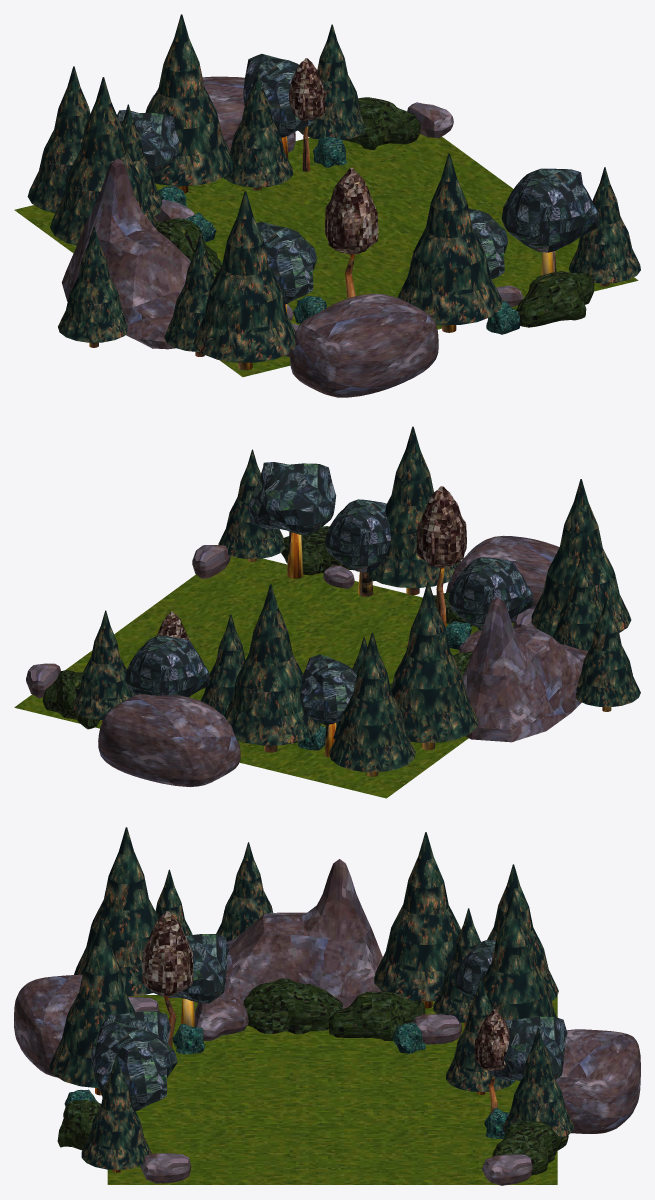
File: environ-01.glb
3 views of the same model, one above another, from view 1: azimuth 30°, elevation 25°; view 2: azimuth 150°, elevation 25°; view 3: azimuth 270°, elevation 25° (orthographic). The views are drawn at different scales.
Parts seen in each view (by area): view 1: ground, wall.rocklg02.001, wall.rock_lg, wall.pinetree04, wall.pinetree04.001, wall.pinetree.001, wall.tree03, wall.pinetree, wall.pinetree02.003, wall.pinetree02, wall.pinetree02.002, wall.pinetree.002 (+18 smaller); view 2: ground, wall.rock_lg, wall.rocklg02, wall.pinetree.001, wall.pinetree, wall.pinetree.002, wall.pinetree04, wall.pinetree04.001, wall.tree03, wall.tree02, wall.tree01, wall.pinetree02.003 (+16 smaller); view 3: ground, wall.rock_lg, wall.pinetree, wall.rocklg02, wall.pinetree04, wall.pinetree04.001, wall.pinetree.001, wall.tree03, wall.rocklg02.001, wall.pinetree02.002, wall.bush_lg, wall.pinetree02.001 (+21 smaller).
Boxes of the visible parts, x1,y1,x2,y2 form: ground: (14, 134, 638, 376); wall.rocklg02.001: (290, 293, 438, 397); wall.rock_lg: (61, 158, 190, 349); wall.pinetree04: (193, 191, 295, 362); wall.pinetree04.001: (397, 153, 502, 325); wall.pinetree.001: (146, 14, 232, 186); wall.tree03: (501, 168, 599, 252); wall.pinetree: (50, 77, 155, 245); wall.pinetree02.003: (58, 226, 127, 342); wall.pinetree02: (223, 71, 293, 187); wall.pinetree02.002: (568, 167, 640, 283); wall.pinetree.002: (27, 66, 90, 212); ground: (14, 556, 552, 798); wall.rock_lg: (462, 597, 587, 742); wall.rocklg02: (98, 694, 240, 787); wall.pinetree.001: (224, 584, 320, 745); wall.pinetree: (391, 581, 478, 742); wall.pinetree.002: (329, 632, 415, 772); wall.pinetree04: (531, 479, 631, 636); wall.pinetree04.001: (365, 426, 460, 588); wall.tree03: (249, 462, 336, 535); wall.tree02: (125, 635, 209, 697); wall.tree01: (448, 557, 533, 629); wall.pinetree02.003: (575, 597, 640, 707); ground: (107, 995, 557, 1184); wall.rock_lg: (194, 859, 382, 1008); wall.pinetree: (374, 832, 460, 1001); wall.rocklg02: (556, 1029, 640, 1133); wall.pinetree04: (74, 827, 158, 996); wall.pinetree04.001: (49, 919, 135, 1088); wall.pinetree.001: (482, 891, 556, 1020); wall.tree03: (93, 1021, 177, 1110); wall.rocklg02.001: (14, 974, 82, 1077); wall.pinetree02.002: (81, 1055, 151, 1169); wall.bush_lg: (243, 978, 342, 1034); wall.pinetree02.001: (503, 1027, 573, 1138).
Bounding box in the file's own units: 36.71 × 12.97 × 39.24.
8 materials, 8 textured.
